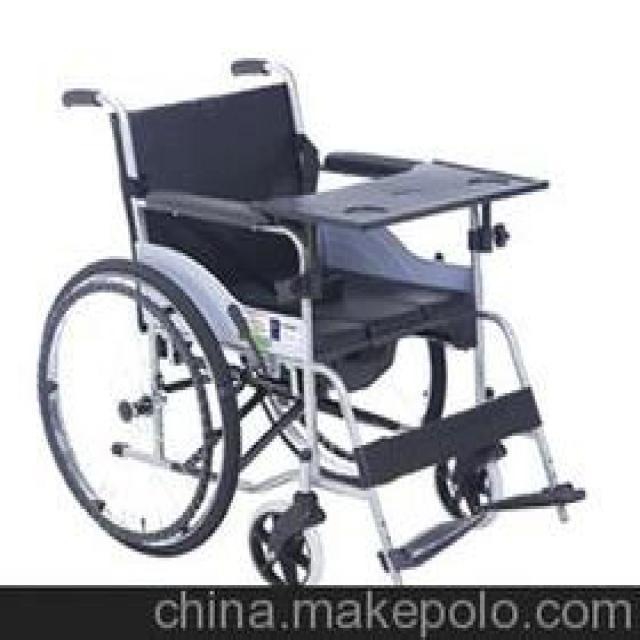wheelchair: (29, 42, 596, 582)
